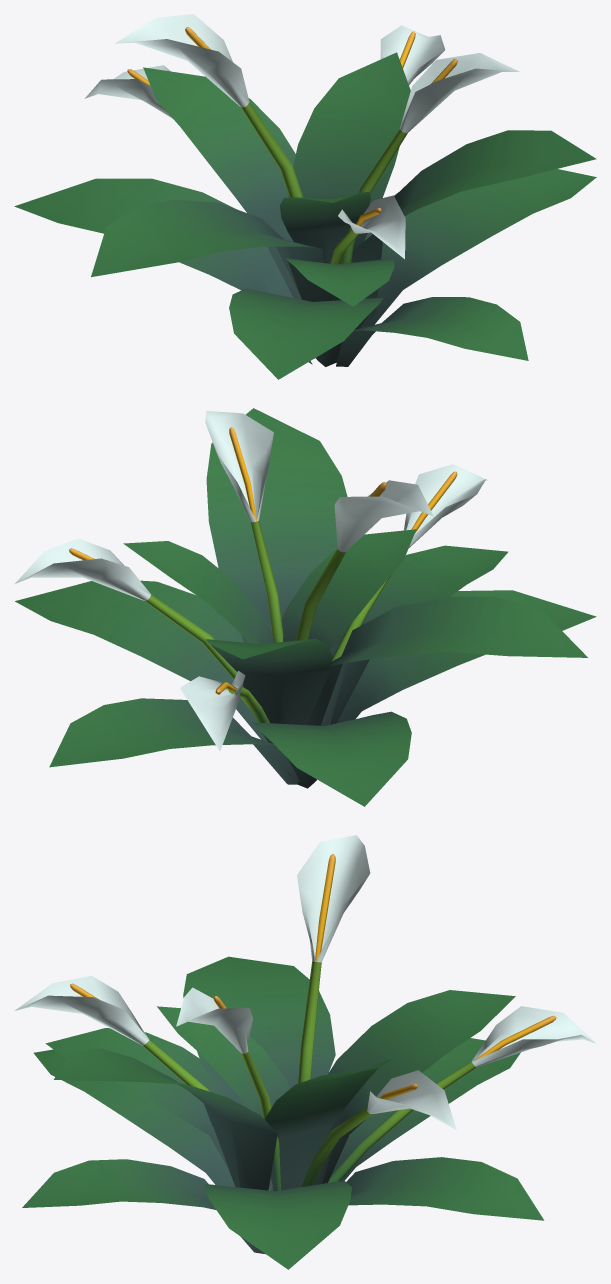
The model's file is flower_023_base_material_0.fbx.
3 renders of one model, top to bottom at view 1: azimuth 30°, elevation 25°; view 2: azimuth 150°, elevation 25°; view 3: azimuth 270°, elevation 25°, orthographic.
Parts seen in each view (by area): view 1: flower_023_base_material_0; view 2: flower_023_base_material_0; view 3: flower_023_base_material_0.
Boxes of the visible parts, left/top/right/bottom form: flower_023_base_material_0: left=14, top=14, right=596, bottom=379; flower_023_base_material_0: left=14, top=408, right=596, bottom=806; flower_023_base_material_0: left=14, top=835, right=596, bottom=1269.
Size of the model in its own units: 3.22 by 3.05 by 1.96.
Materials: 1 (1 with a texture image).
